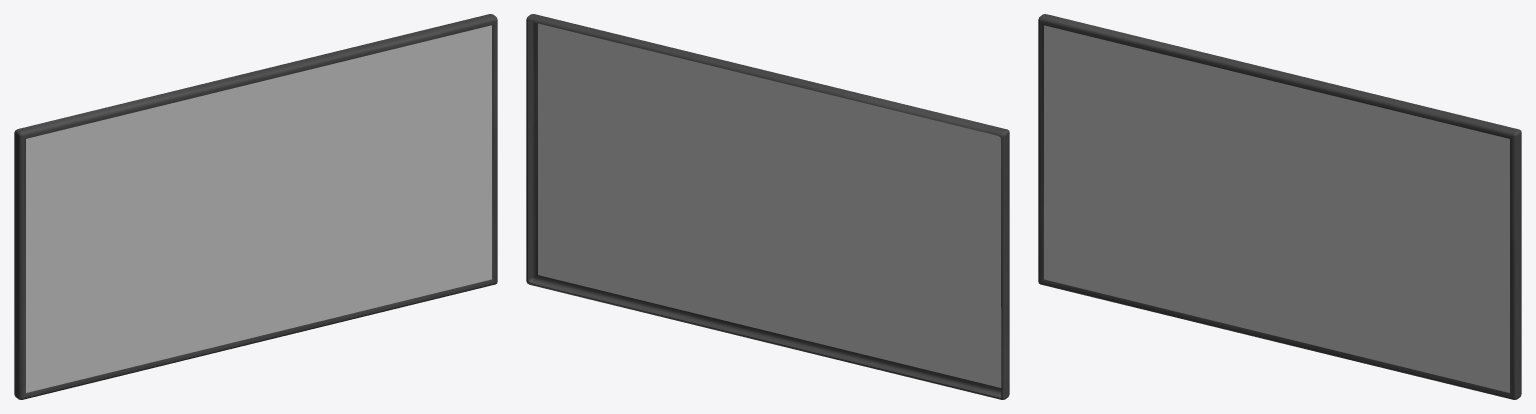
Rendered from EN_P_InfoScreen.fbx.
3 renders of one model, left to right at view 1: azimuth 30°, elevation 25°; view 2: azimuth 150°, elevation 25°; view 3: azimuth 330°, elevation 25°, orthographic.
Parts seen in each view (by area): view 1: Skärm1; view 2: Skärm1; view 3: Skärm1.
Part boxes in pixels (x1=…): Skärm1: x1=14, y1=14, x2=497, y2=399; Skärm1: x1=526, y1=14, x2=1009, y2=399; Skärm1: x1=1038, y1=14, x2=1521, y2=399.
Size of the model in its own units: 337 by 180 by 8.45.
